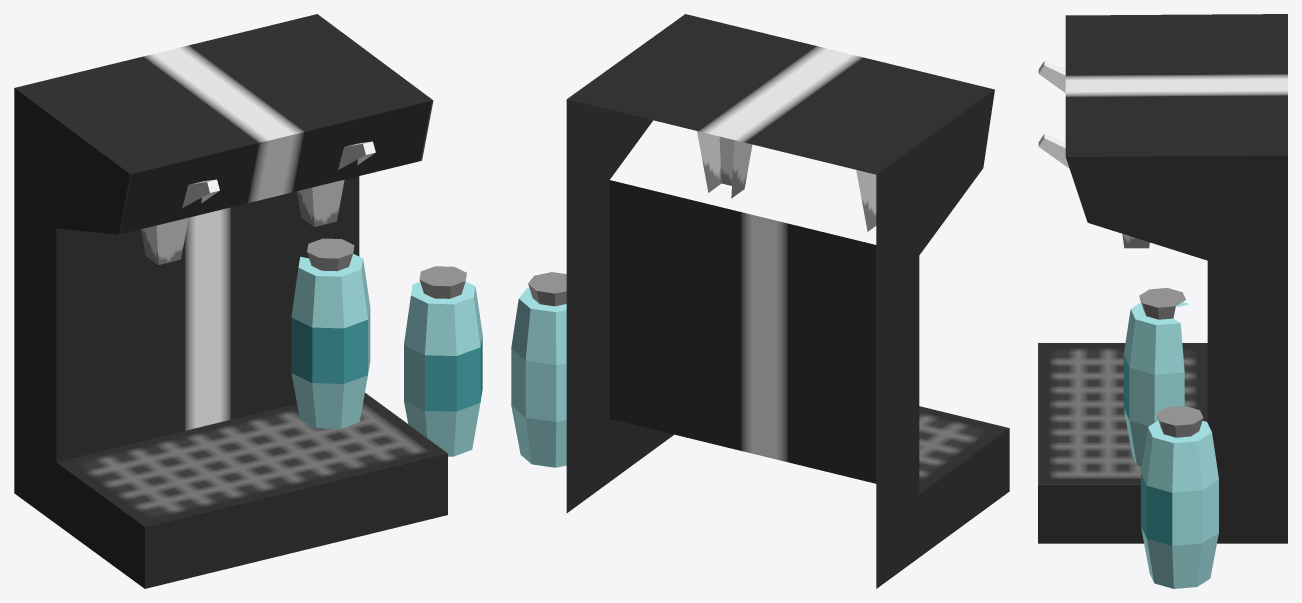
Rendered from YogurtIndustry.fbx.
The picture shows the model from 3 angles, left to right: view 1: azimuth 30°, elevation 25°; view 2: azimuth 150°, elevation 25°; view 3: azimuth 270°, elevation 25°; orthographic projection. The views are drawn at different scales.
Visible parts, largest first — view 1: Mashine, Bottle; view 2: Mashine, Bottle; view 3: Mashine, Bottle.
Boxes of the visible parts, bbox=[...] form: Mashine: bbox=[14, 14, 447, 588]; Bottle: bbox=[404, 266, 482, 456]; Mashine: bbox=[566, 14, 1009, 588]; Bottle: bbox=[511, 272, 566, 467]; Mashine: bbox=[1038, 14, 1287, 543]; Bottle: bbox=[1141, 406, 1218, 588].
Size of the model in its own units: 412 by 392 by 229.
